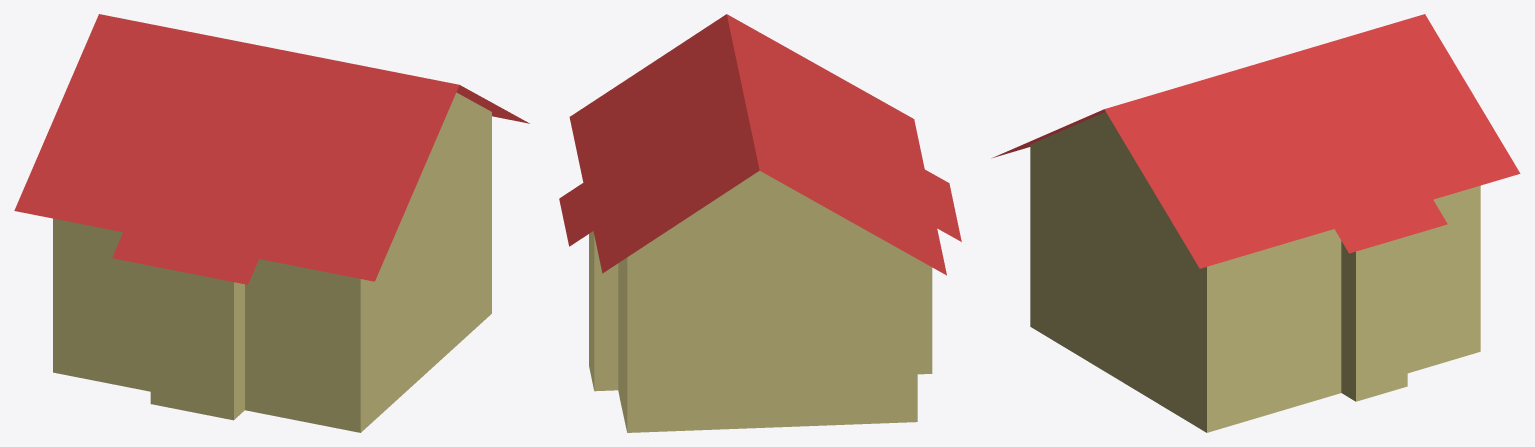
The picture shows the model from 3 angles, left to right: view 1: azimuth 30°, elevation 25°; view 2: azimuth 150°, elevation 25°; view 3: azimuth 270°, elevation 25°; orthographic projection. The views are drawn at different scales.
Size of the model in its own units: 18.21 by 18.45 by 10.88.
